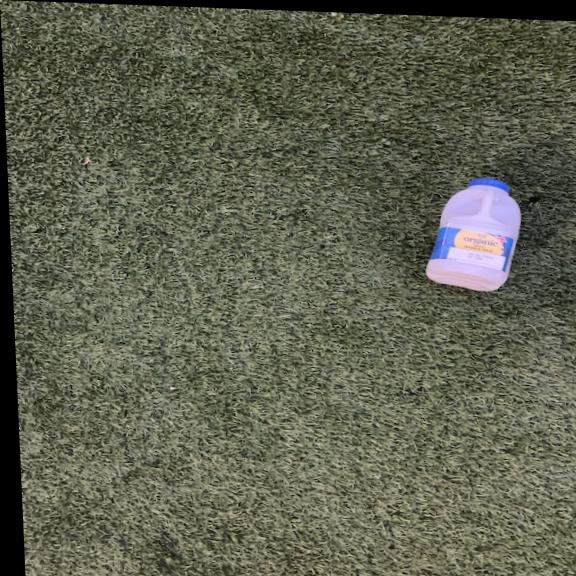Plastik: (413, 174, 527, 300)
